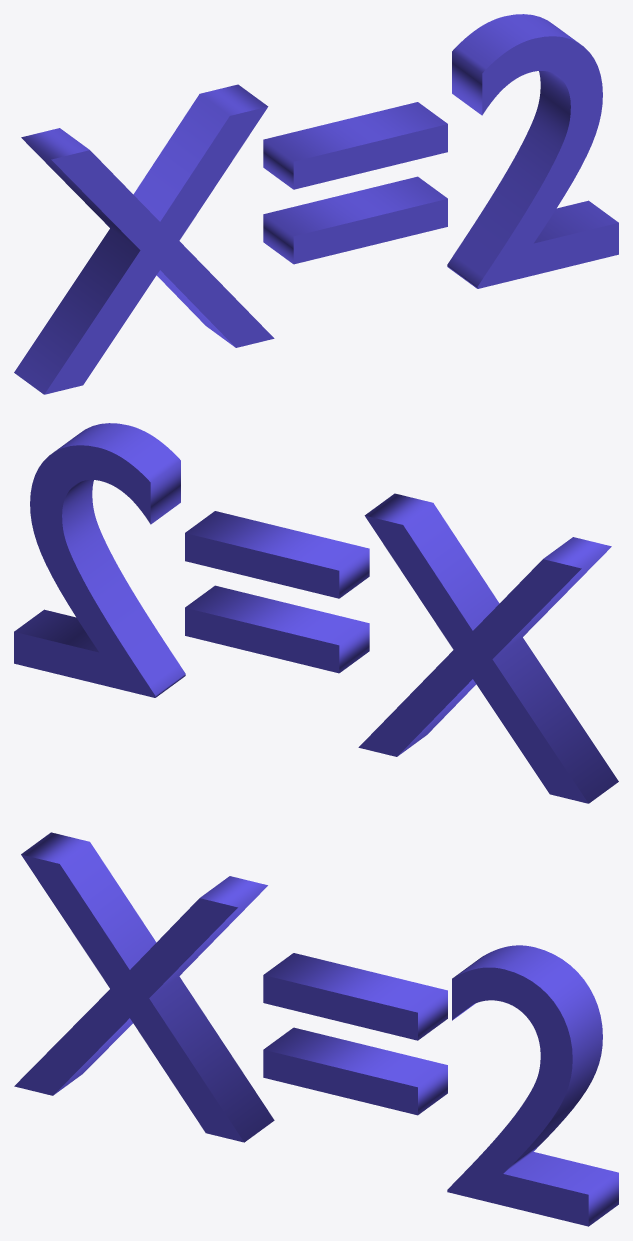
The picture shows the model from 3 angles, top to bottom: view 1: azimuth 30°, elevation 25°; view 2: azimuth 150°, elevation 25°; view 3: azimuth 330°, elevation 25°; orthographic projection.
Parts seen in each view (by area): view 1: Text; view 2: Text; view 3: Text.
Boxes of the visible parts, box(x1,y1,x2,y2) form: Text: box(14, 14, 618, 394); Text: box(14, 423, 618, 803); Text: box(14, 832, 618, 1226).
Size of the model in its own units: 1.76 by 0.691 by 0.16.
